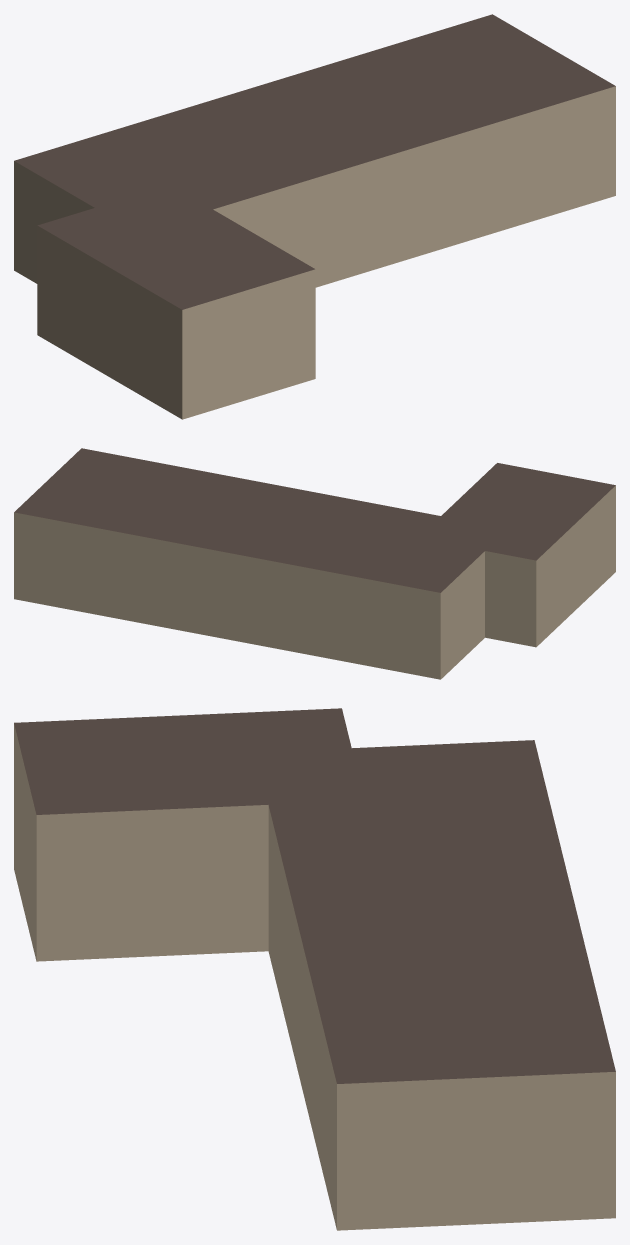
3 renders of one model, top to bottom at view 1: azimuth 30°, elevation 25°; view 2: azimuth 150°, elevation 25°; view 3: azimuth 270°, elevation 25°, orthographic. The views are drawn at different scales.
Visible parts, largest first — view 1: HP-w859424129; view 2: HP-w859424129; view 3: HP-w859424129.
Boxes of the visible parts, left/top/right/bottom form: HP-w859424129: left=14, top=14, right=615, bottom=419; HP-w859424129: left=14, top=448, right=615, bottom=679; HP-w859424129: left=14, top=708, right=615, bottom=1230.
Size of the model in its own units: 49.51 by 9 by 33.52.
